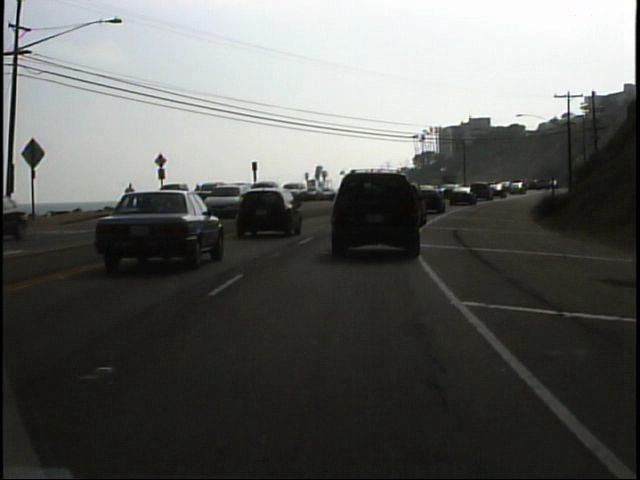person: (123, 180, 140, 214), (192, 182, 206, 211)
